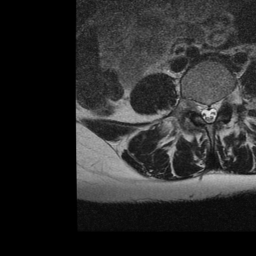CCS_normal: (205, 97, 212, 130)
LFS_normal: (218, 91, 227, 115)
LLS_normal: (212, 96, 218, 126)
RFS_normal: (191, 93, 199, 118)
RLS_normal: (199, 96, 205, 124)
